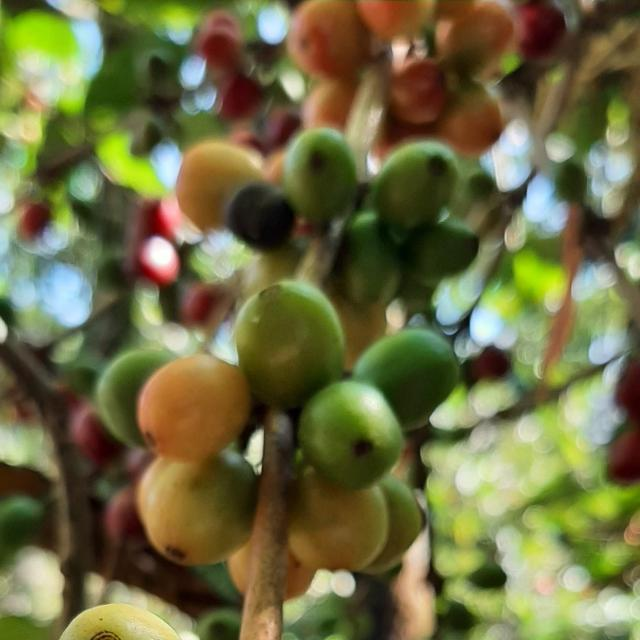Ripe: (136, 355, 251, 462)
Unripe: (235, 280, 345, 408), (136, 451, 257, 567), (298, 381, 404, 491), (353, 328, 460, 430), (288, 467, 389, 572), (95, 350, 175, 447), (341, 210, 402, 306)
